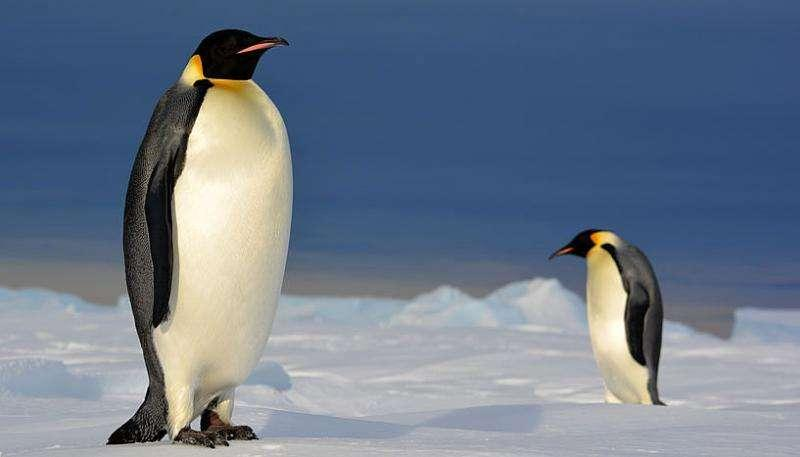emporer: (94, 16, 297, 457), (546, 209, 674, 416)
